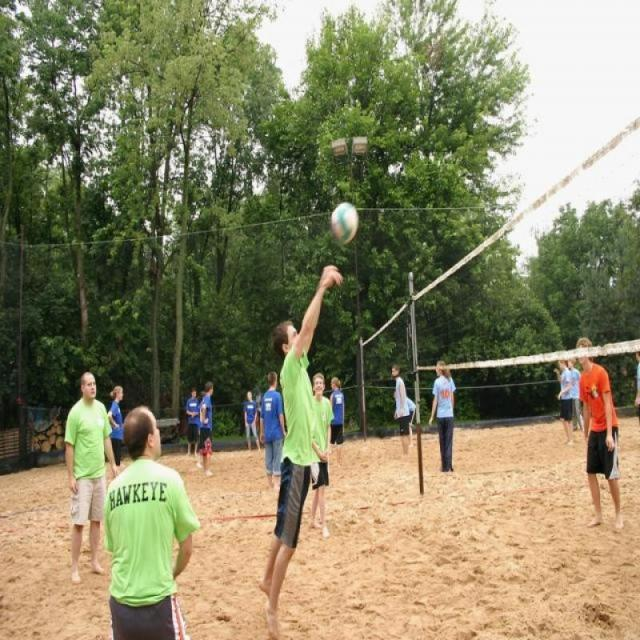volleyball: (330, 199, 360, 246)
